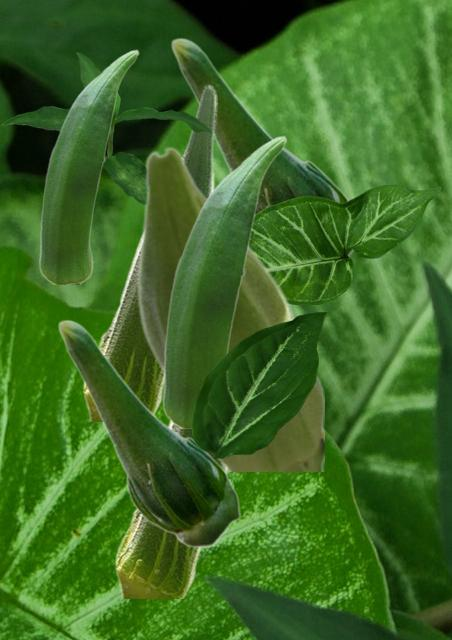okra: (136, 146, 323, 470), (82, 83, 216, 420), (57, 319, 240, 547), (170, 37, 353, 256), (161, 135, 286, 427), (38, 49, 138, 283), (114, 422, 229, 597)
